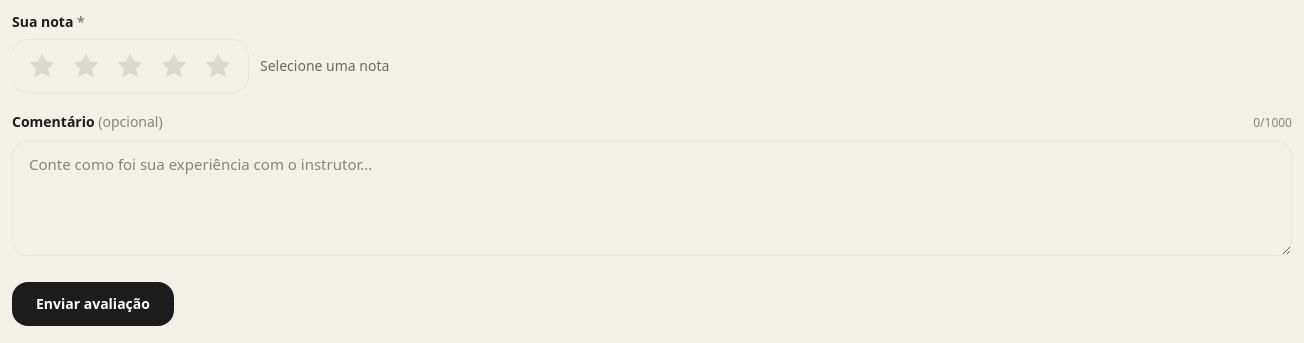
Test: BL05.1 · ReviewSection › reseta feedback, modo de edição e rascunho ao trocar de instrutor
Later steps or results of the test are not shown.
Expected: the button "Enviar avaliação" is shown, [12, 282, 174, 326]
Click the radio button named "5 estrelas". click: (218, 66)
box: [198, 46, 238, 86]
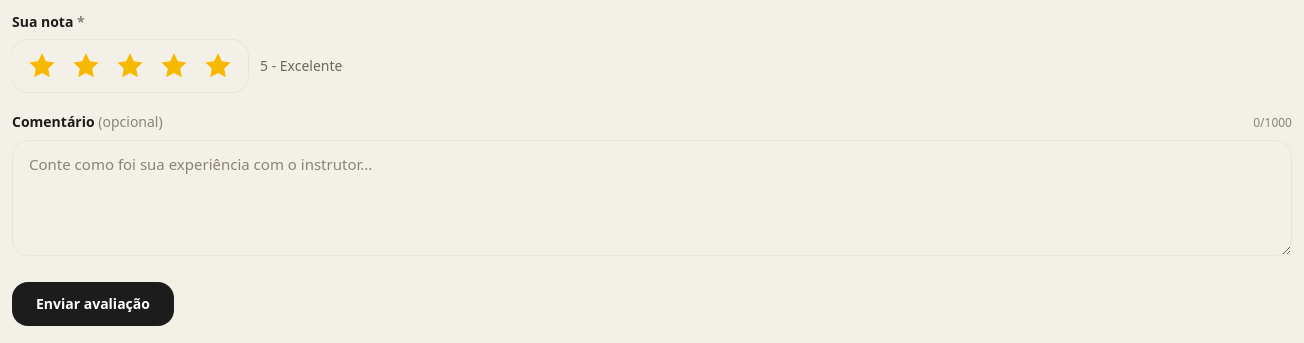
Type "Instrutor A excelente." into the text box labelled "Comentário (opcional)". click: (652, 198)
box: [12, 140, 1292, 256]
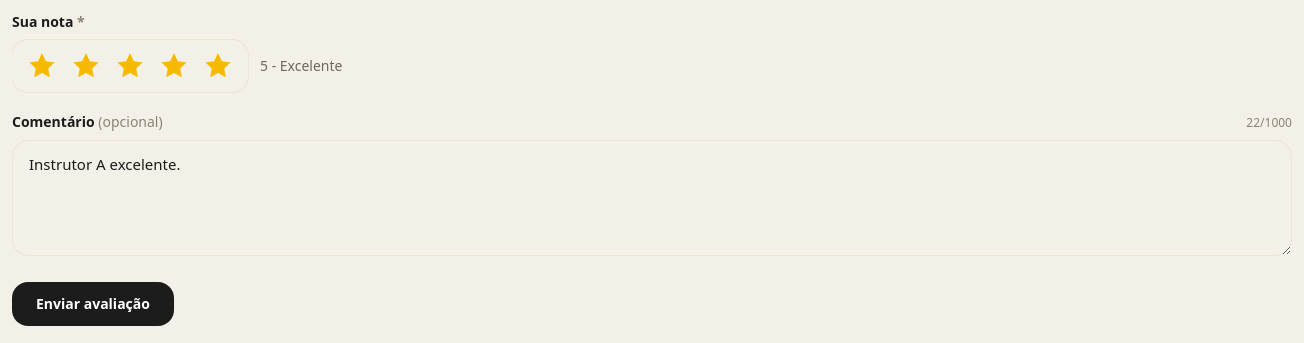
Click the button "Enviar avaliação". click: (93, 304)
box: [12, 282, 174, 326]
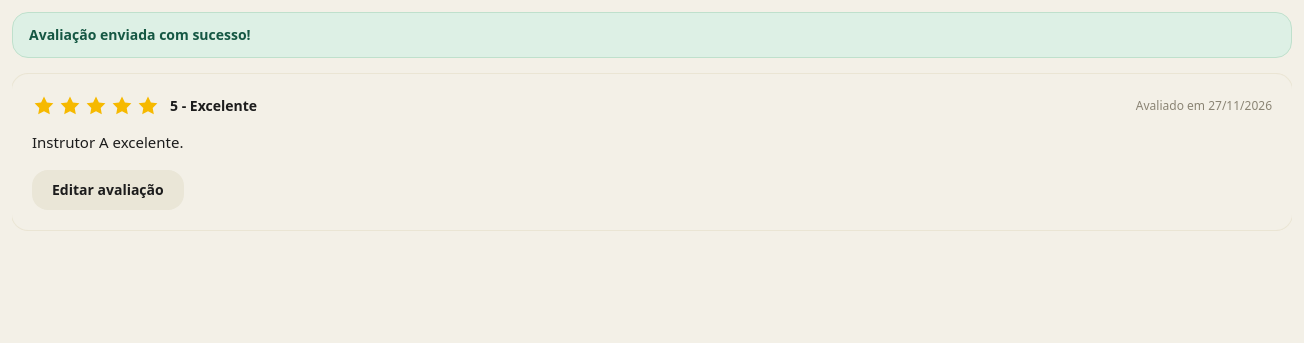
Expected: the text "Avaliação enviada com sucesso!" is shown, [12, 12, 1292, 58]
